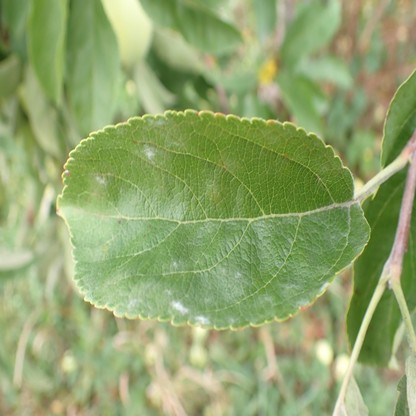powdery_mildew: (218, 268, 244, 303), (143, 145, 157, 165), (171, 301, 187, 316), (194, 314, 210, 327), (148, 118, 167, 128), (127, 299, 142, 311), (282, 283, 300, 293), (258, 294, 272, 303), (96, 174, 107, 185), (163, 286, 172, 296), (172, 260, 178, 267), (230, 317, 235, 324)
